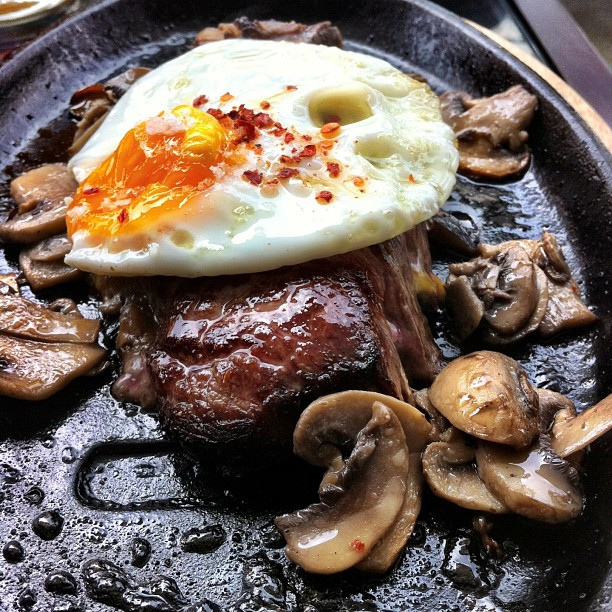fried egg: (64, 43, 442, 271)
